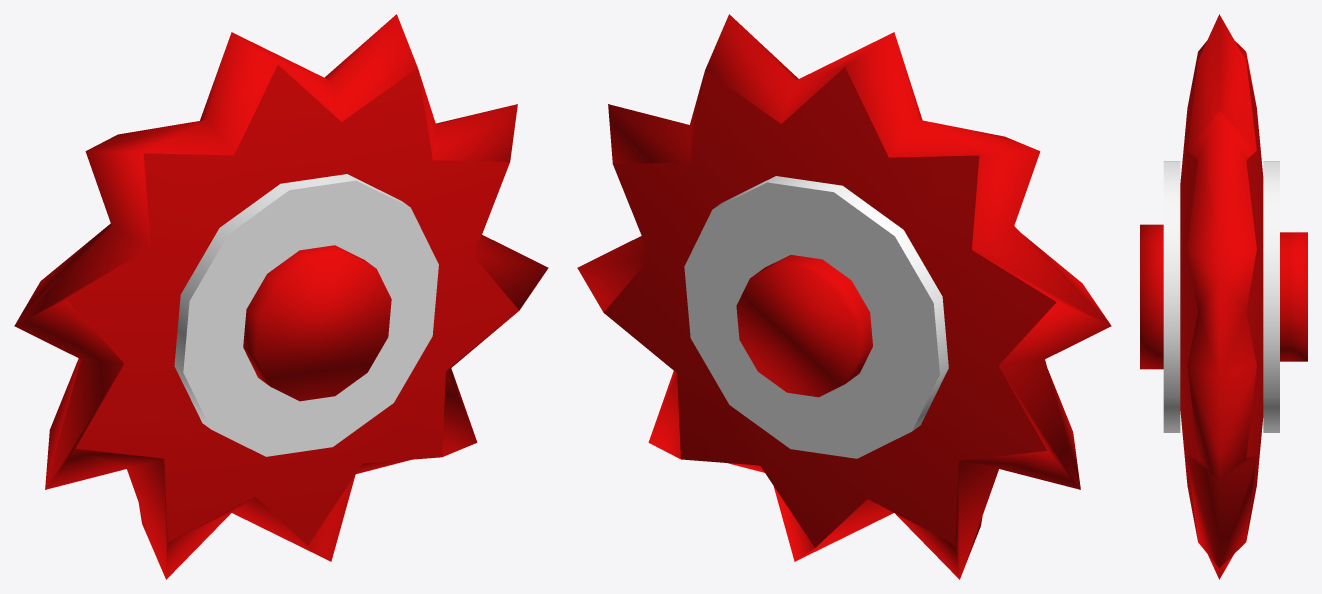
File: obstacle_saw blade (1) 1.fbx
3 views of the same model, side by side, from view 1: azimuth 30°, elevation 25°; view 2: azimuth 150°, elevation 25°; view 3: azimuth 270°, elevation 25° (orthographic). The views are drawn at different scales.
Visible parts, largest first — view 1: SawBlade; view 2: SawBlade; view 3: SawBlade.
Boxes of the visible parts, <box> form: SawBlade: <box>14,14,548,579</box>; SawBlade: <box>577,14,1111,579</box>; SawBlade: <box>1140,14,1307,579</box>.
Size of the model in its own units: 893 by 885 by 259.
